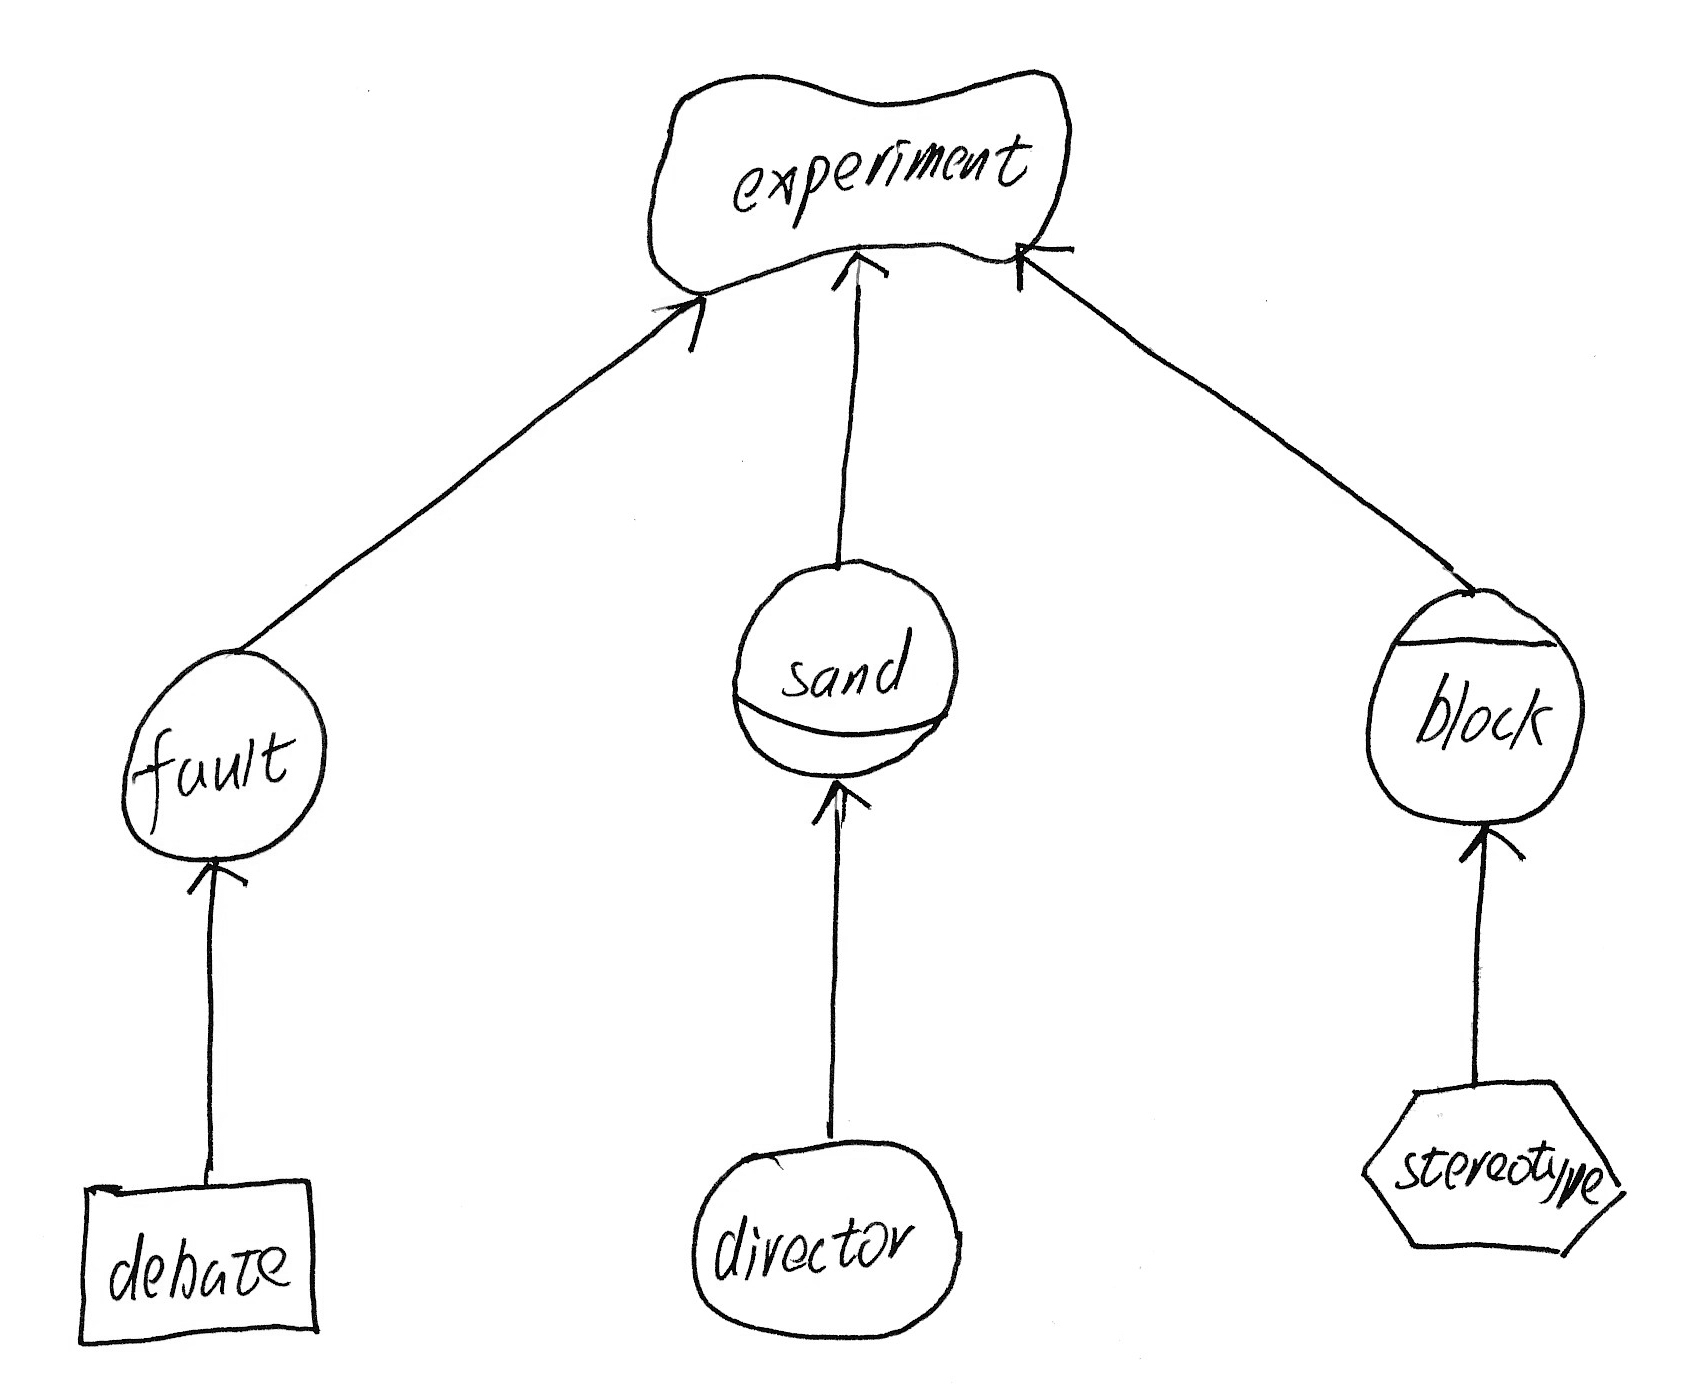actor: (100, 630, 342, 873)
agent: (1349, 573, 1599, 839)
arrow: (1447, 809, 1537, 879), (651, 273, 718, 366), (1002, 227, 1086, 299), (797, 767, 882, 831), (178, 846, 257, 910), (822, 239, 897, 304)
goal: (670, 1122, 976, 1355)
quality: (630, 51, 1093, 307)
resource: (64, 1157, 333, 1360)
role: (713, 545, 978, 791)
task: (1352, 1064, 1643, 1270)
